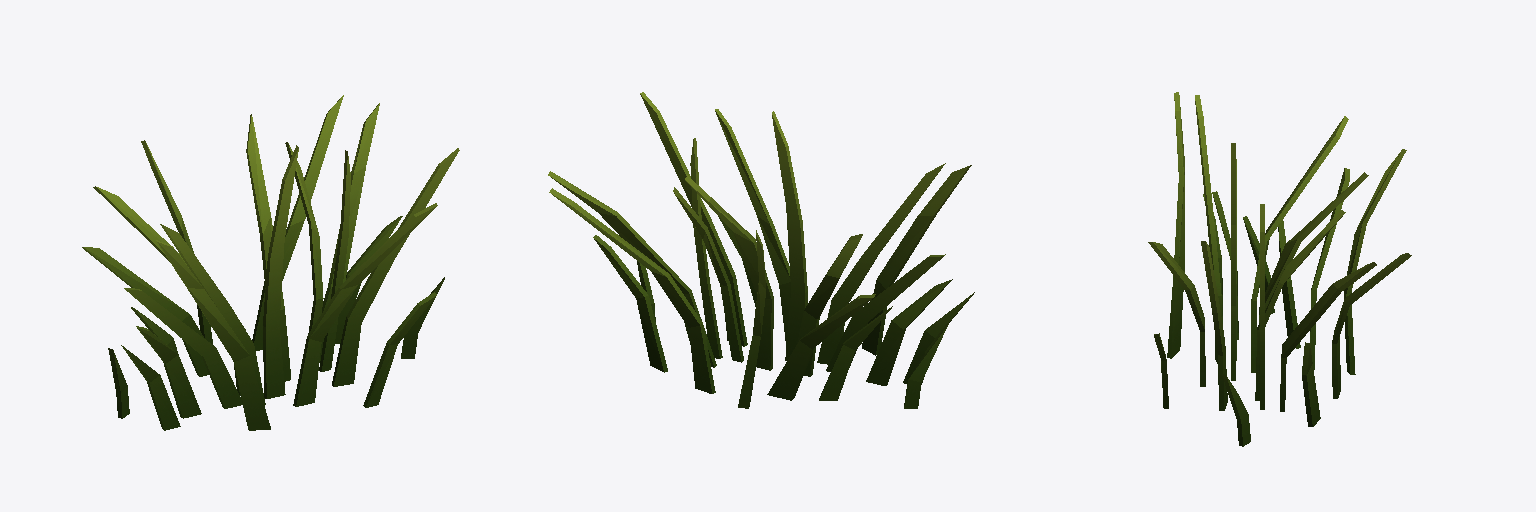
The picture shows the model from 3 angles: view 1: azimuth 30°, elevation 25°; view 2: azimuth 150°, elevation 25°; view 3: azimuth 270°, elevation 25°; orthographic projection.
Parts seen in each view (by area): view 1: Grass_Large_Extruded; view 2: Grass_Large_Extruded; view 3: Grass_Large_Extruded.
Boxes of the visible parts, x1,y1,x2,y2 form: Grass_Large_Extruded: [82, 95, 459, 430]; Grass_Large_Extruded: [548, 92, 974, 408]; Grass_Large_Extruded: [1148, 92, 1411, 446].
Bounding box in the file's own units: 0.7447 × 0.5089 × 0.4973.
Materials: 1 (1 with a texture image).